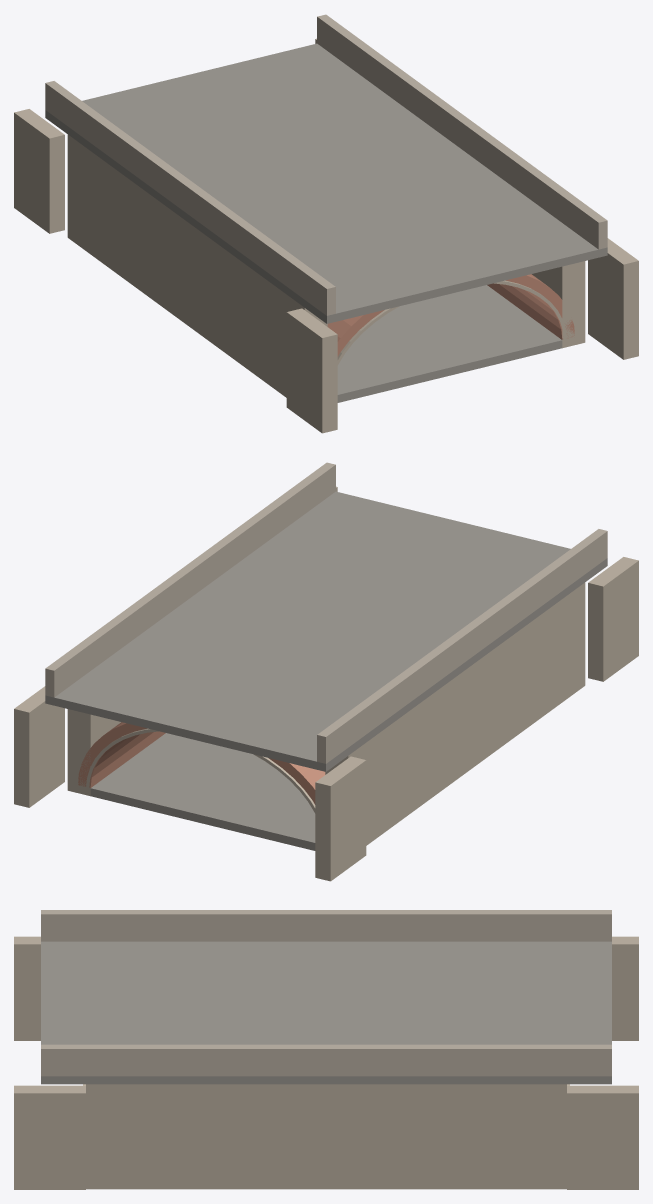
File: cp_denesmouth_arch.glb
3 renders of one model, top to bottom at view 1: azimuth 30°, elevation 25°; view 2: azimuth 150°, elevation 25°; view 3: azimuth 270°, elevation 25°, orthographic.
Parts seen in each view (by area): view 1: DenesmouthArch; view 2: DenesmouthArch; view 3: DenesmouthArch.
Part boxes in pixels (box(x1,y1,x2,y2)): DenesmouthArch: box(14, 14, 638, 433); DenesmouthArch: box(14, 462, 638, 881); DenesmouthArch: box(14, 910, 638, 1189).
Size of the model in its own units: 12.34 by 5.15 by 20.8.
